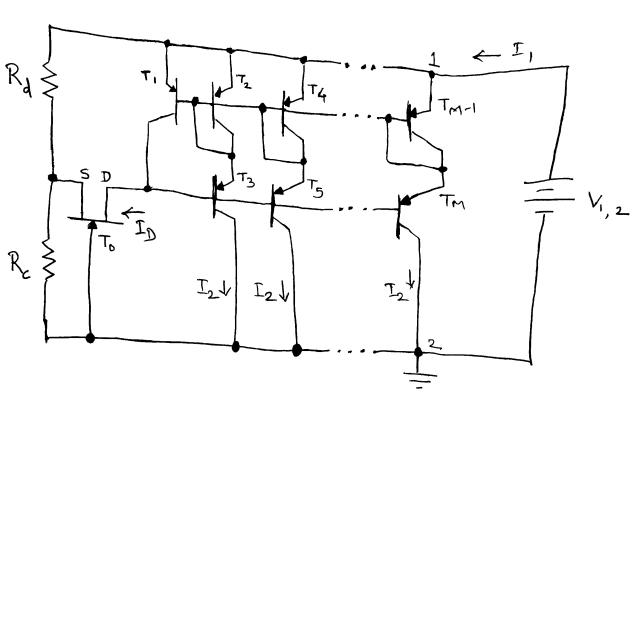ground: (403, 369, 436, 390)
junction: (230, 339, 242, 353), (84, 331, 96, 344), (47, 171, 59, 184), (292, 343, 302, 357), (383, 112, 394, 124), (142, 183, 153, 194), (412, 346, 423, 357), (190, 95, 200, 107), (298, 54, 308, 65), (258, 102, 267, 114), (227, 150, 236, 161), (42, 333, 51, 344), (46, 21, 55, 32), (162, 38, 171, 48), (299, 157, 308, 167), (428, 69, 437, 79), (226, 46, 235, 55), (563, 62, 572, 71), (193, 143, 201, 151), (439, 165, 446, 173), (261, 155, 268, 162), (440, 183, 447, 190), (385, 158, 391, 165)
resistor: (39, 61, 59, 102), (40, 236, 57, 283)
source: (523, 177, 575, 215)
terminal: (370, 348, 379, 357)
text: (587, 189, 630, 221), (5, 61, 32, 99), (438, 96, 477, 118), (7, 251, 32, 281), (511, 41, 535, 66), (195, 277, 221, 300), (383, 281, 411, 302), (307, 81, 330, 106), (436, 193, 467, 211), (254, 282, 279, 304), (135, 218, 156, 243), (306, 177, 325, 200), (237, 170, 256, 189), (235, 71, 253, 91), (98, 234, 116, 252), (140, 69, 156, 86), (428, 51, 440, 67), (428, 338, 442, 350), (79, 168, 90, 181), (100, 170, 111, 183)
transistor: (65, 179, 127, 231), (404, 100, 445, 153), (269, 179, 306, 232), (146, 77, 181, 126), (280, 89, 305, 143), (209, 174, 236, 222), (212, 83, 235, 136), (393, 193, 418, 240)
